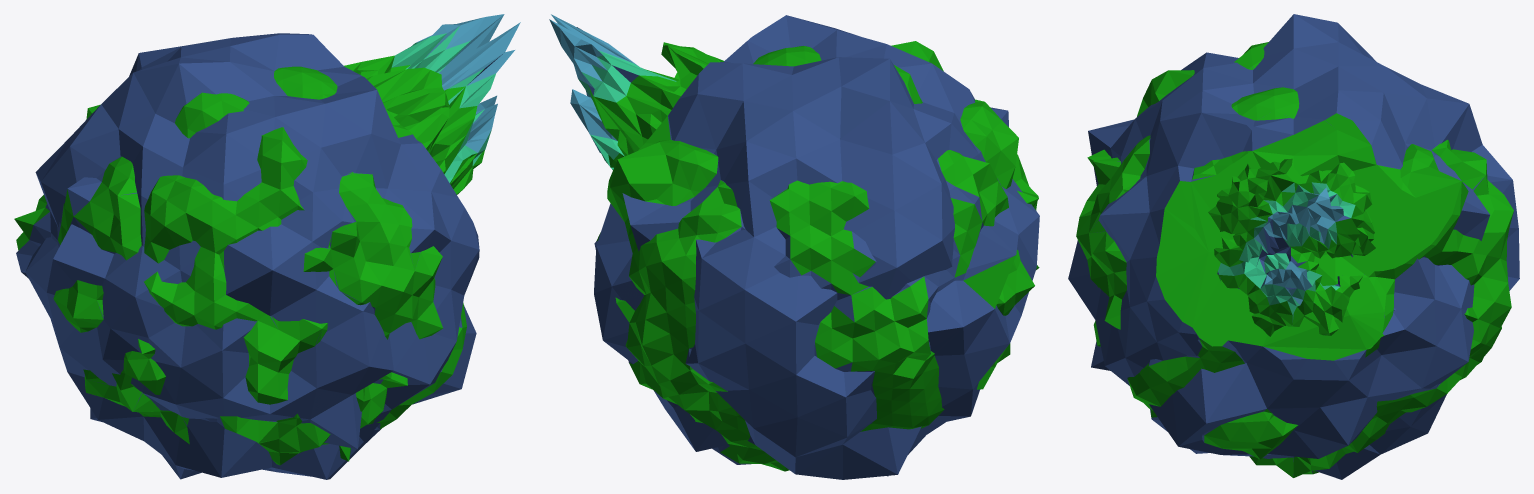
The model's file is PlanetLowPoly.glb.
3 views of the same model, side by side, from view 1: azimuth 30°, elevation 25°; view 2: azimuth 150°, elevation 25°; view 3: azimuth 270°, elevation 25° (orthographic). The views are drawn at different scales.
Visible parts, largest first — view 1: SP_Planet; view 2: SP_Planet; view 3: SP_Planet.
Part boxes in pixels (left/top/right/bottom): SP_Planet: left=14, top=14, right=520, bottom=479; SP_Planet: left=549, top=14, right=1039, bottom=479; SP_Planet: left=1068, top=14, right=1519, bottom=479.
Size of the model in its own units: 6.28 by 5.48 by 5.43.
